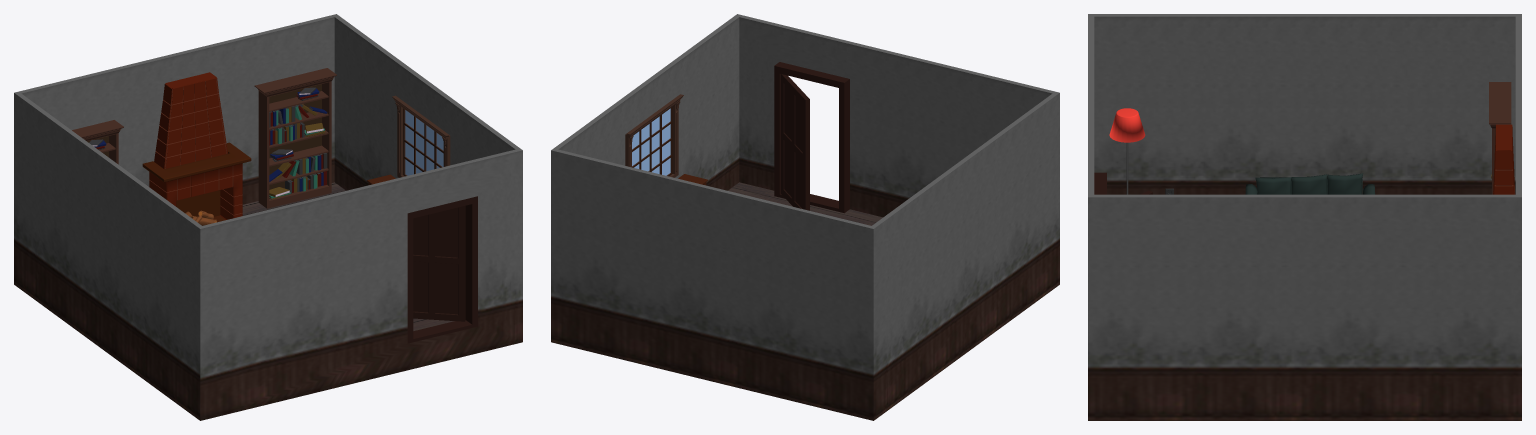
File: HelpMe_Room.fbx
The picture shows the model from 3 angles, left to right: view 1: azimuth 30°, elevation 25°; view 2: azimuth 150°, elevation 25°; view 3: azimuth 270°, elevation 25°; orthographic projection. The views are drawn at different scales.
Parts seen in each view (by area): view 1: Cube.024, Cube.035, Old_Dusty_Bookshelf.001, Cube.008, Cube.006, wind_low, Old_Dusty_Bookshelf_Books.003, Old_Dusty_Bookshelf_Books.002, Cube.036, Old_Dusty_Bookshelf, Cube.033; view 2: Cube.024, Cube.008, Cube.006, wind_low; view 3: Cube.024, dessous, Cube.035, Old_Dusty_Bookshelf, Cylinder.
Boxes of the visible parts, x1,y1,x2,y2 form: Cube.024: (14,14,522,420); Cube.035: (149,72,242,219); Old_Dusty_Bookshelf.001: (254,68,336,208); Cube.008: (413,205,465,321); Cube.006: (407,196,477,343); wind_low: (392,95,450,177); Old_Dusty_Bookshelf_Books.003: (269,149,327,199); Old_Dusty_Bookshelf_Books.002: (269,87,327,145); Cube.036: (142,142,251,182); Old_Dusty_Bookshelf: (72,120,123,164); Cube.033: (176,190,225,222); Cube.024: (551,14,1059,420); Cube.008: (781,74,809,210); Cube.006: (774,62,849,213); wind_low: (625,94,683,177); Cube.024: (1088,14,1521,420); dessous: (1245,173,1375,194); Cube.035: (1493,124,1515,194); Old_Dusty_Bookshelf: (1489,82,1511,194); Cylinder: (1109,108,1145,142).
Bounding box in the file's own units: 600 × 341 × 600.
